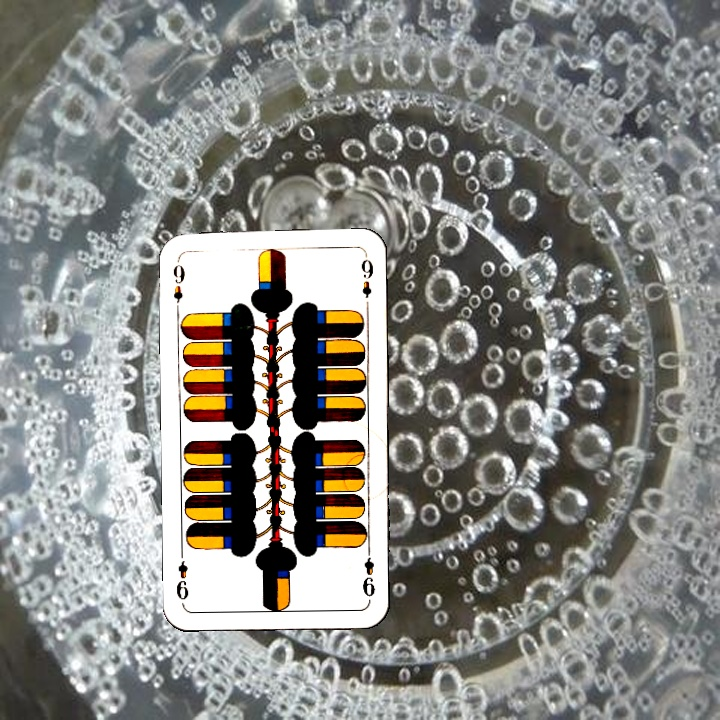E9: (359, 543, 378, 602), (169, 256, 187, 315)
